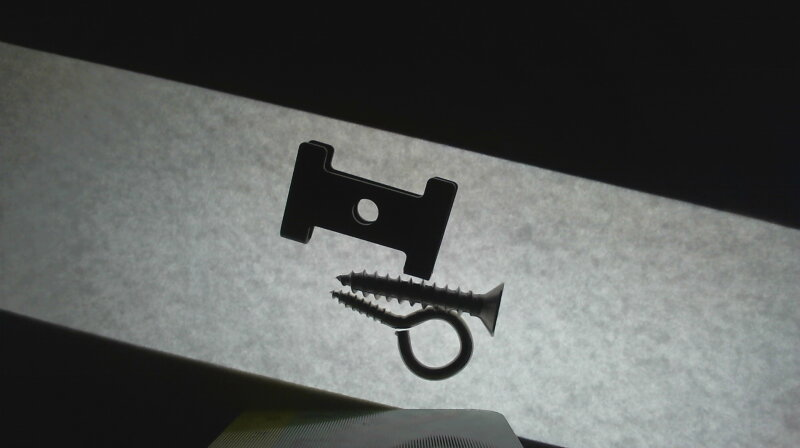O001: (325, 286, 476, 383)
O002: (276, 137, 460, 280)
S001: (333, 270, 509, 339)
